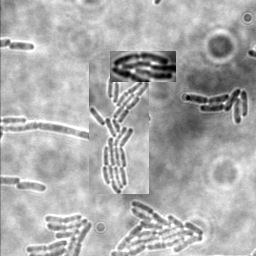Dividing: (1, 123, 88, 142), (8, 41, 35, 52)
Microcolony: (89, 60, 149, 194), (109, 200, 205, 255), (25, 212, 94, 255), (184, 89, 248, 126), (110, 51, 176, 82), (16, 182, 48, 193)
